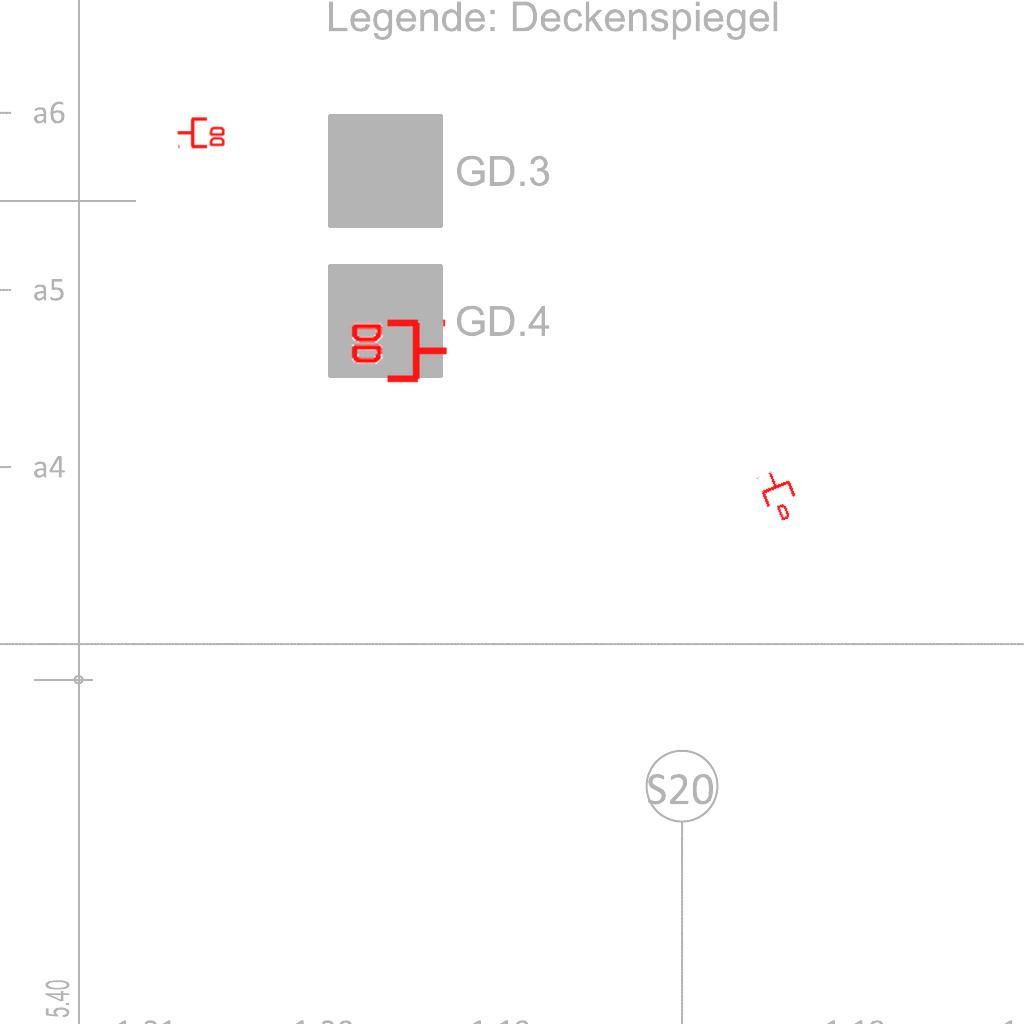Datenanschluss_einfach: (753, 465, 805, 525)
Datenanschluss_zweifach: (347, 318, 450, 387), (176, 115, 227, 149)
